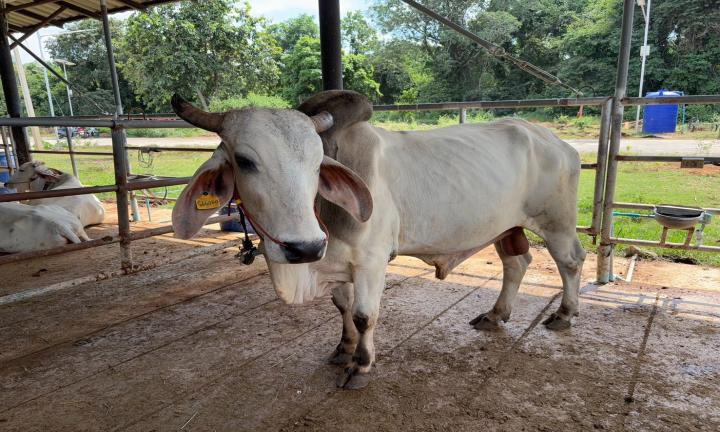Brahman: (172, 90, 585, 389)
